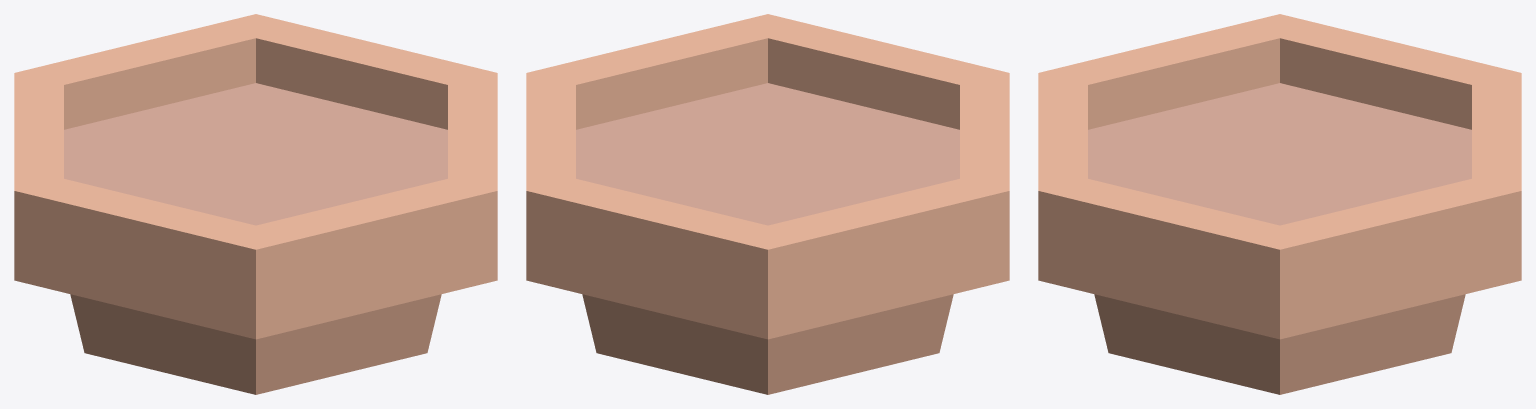
The model's file is pot_large.glb.
3 renders of one model, left to right at view 1: azimuth 30°, elevation 25°; view 2: azimuth 150°, elevation 25°; view 3: azimuth 270°, elevation 25°, orthographic.
Visible parts, largest first — view 1: pot_large; view 2: pot_large; view 3: pot_large.
Part boxes in pixels (left/top/right/bottom): pot_large: left=14, top=14, right=497, bottom=394; pot_large: left=526, top=14, right=1009, bottom=394; pot_large: left=1038, top=14, right=1521, bottom=394.
Bounding box in the file's own units: 0.5636 × 0.2 × 0.4881.
